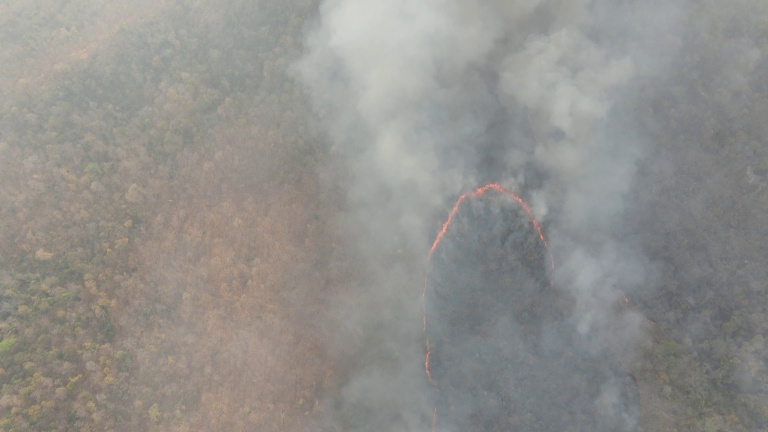fire: (422, 180, 553, 291), (414, 304, 450, 386), (620, 290, 635, 306)
smoke: (513, 1, 656, 401), (308, 1, 494, 214)
